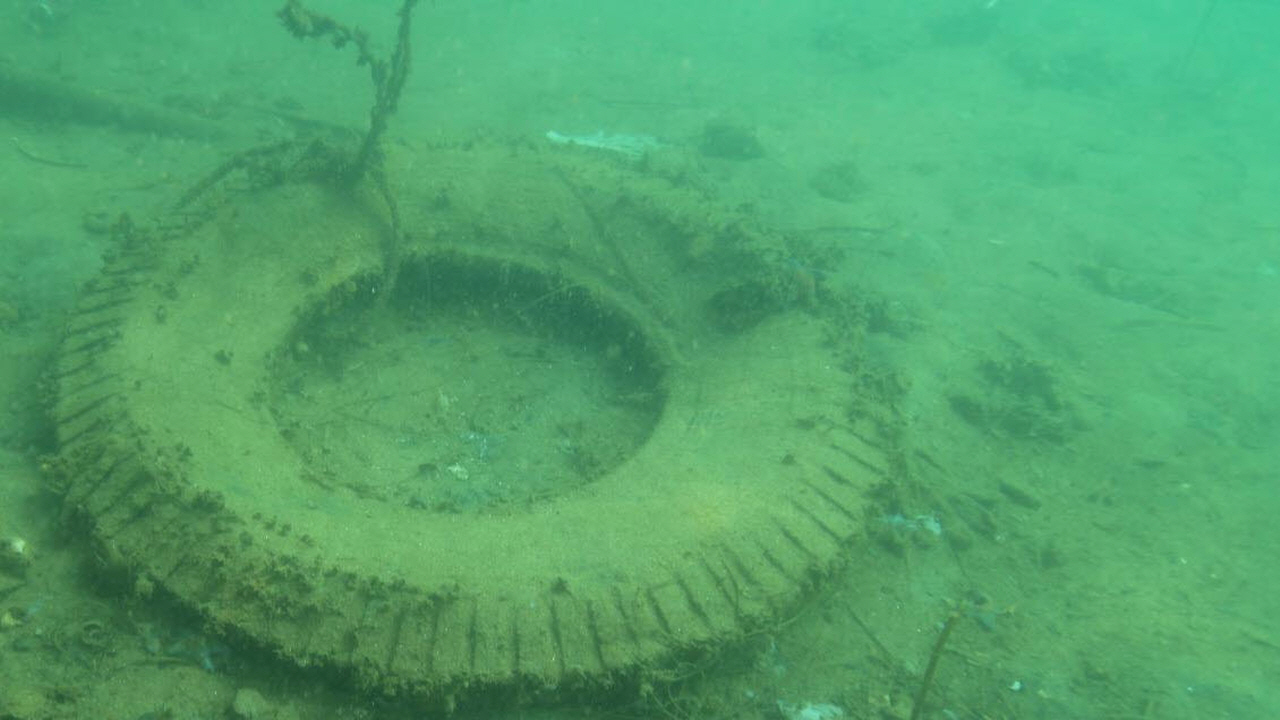tire: (45, 126, 890, 702)
